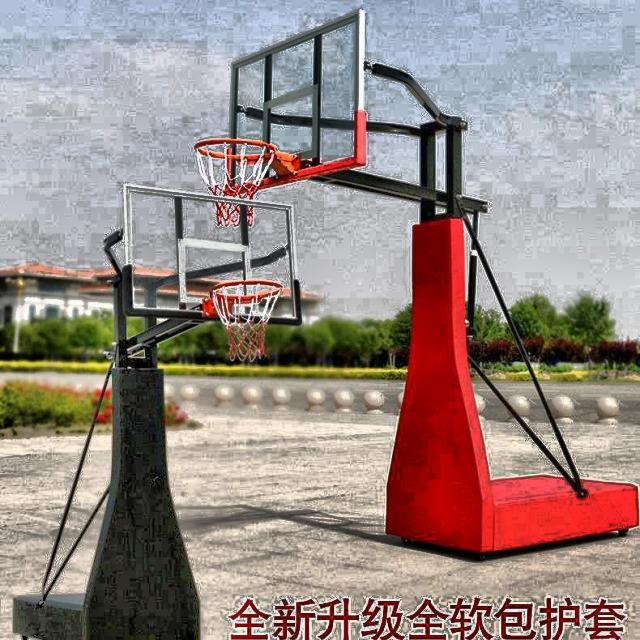rim: (192, 138, 278, 226), (207, 279, 282, 362)
